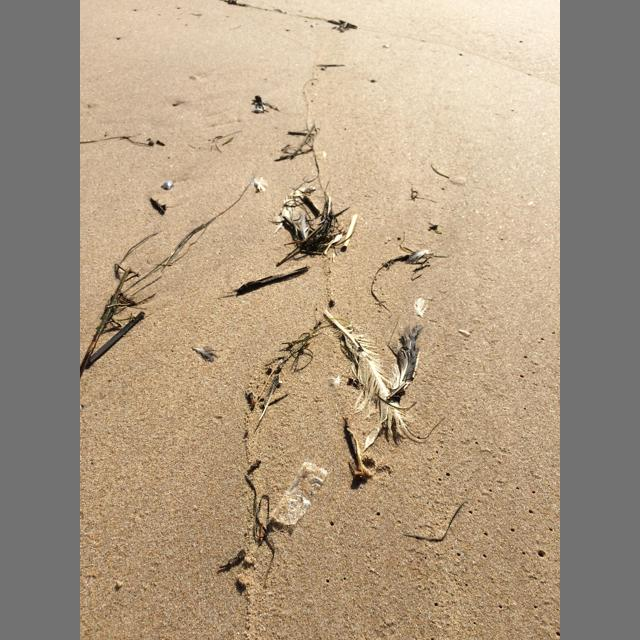litter: (271, 459, 329, 524)
